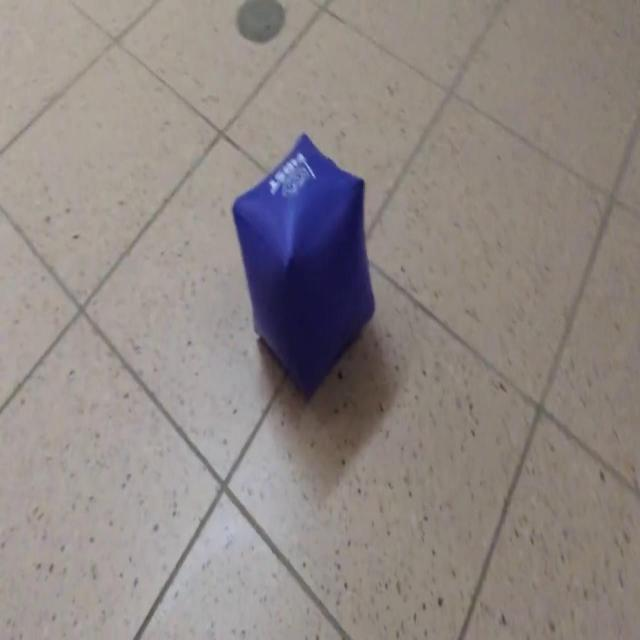frc_cube: (232, 133, 378, 391)
